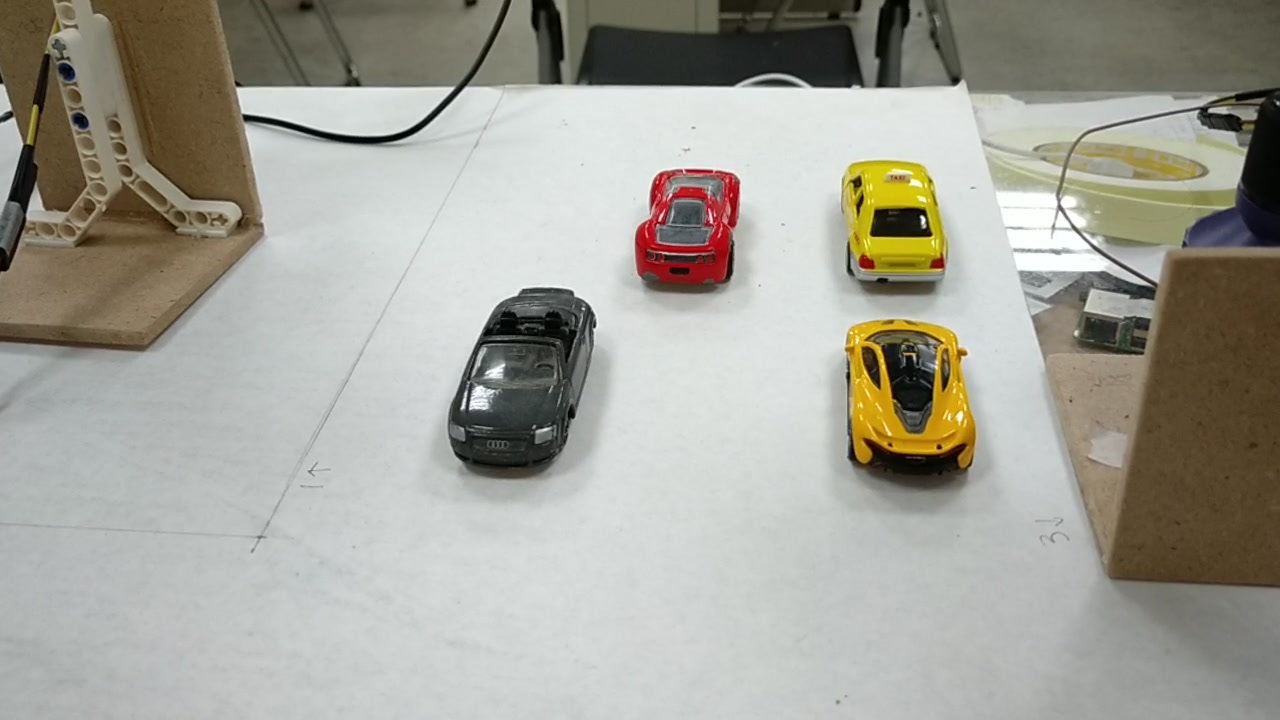car: (444, 299, 597, 459), (848, 325, 975, 474), (634, 162, 750, 280), (845, 159, 946, 278)
